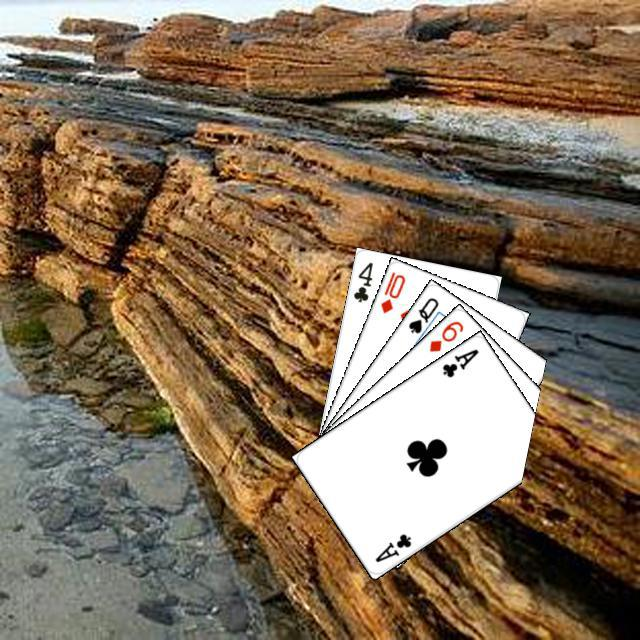10d: (375, 267, 407, 315)
4c: (348, 257, 374, 304)
6d: (424, 316, 465, 354)
Ac: (370, 528, 413, 564), (437, 344, 481, 379)
Qs: (403, 292, 440, 335)
